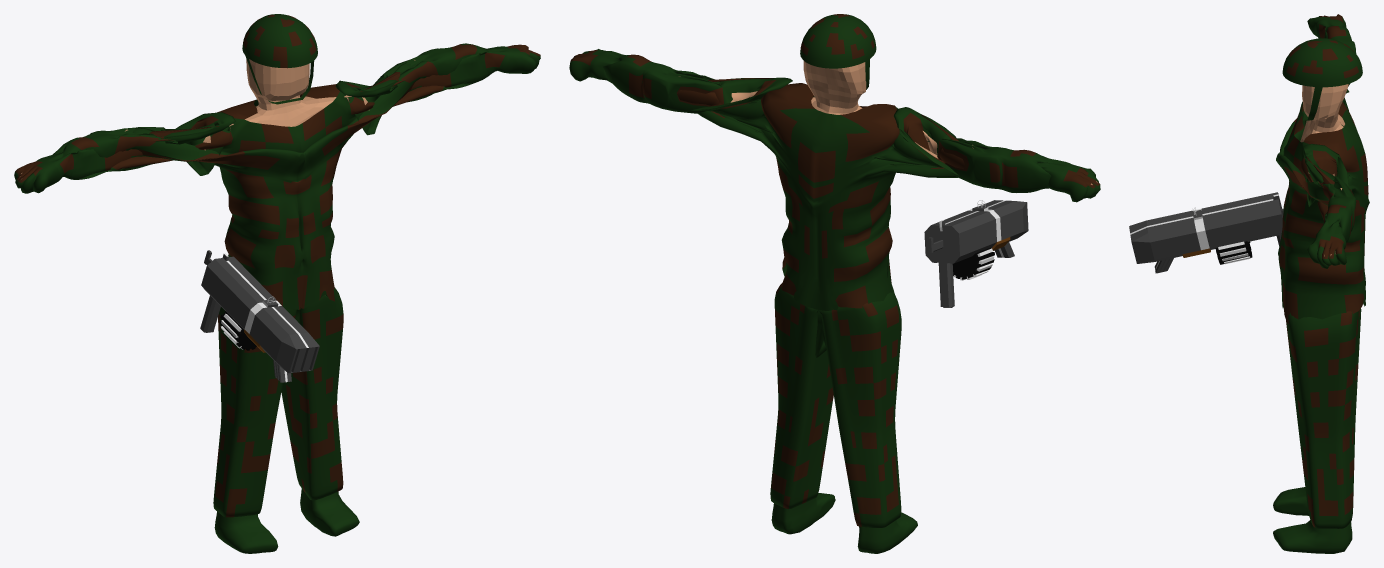
Rendered from tower2_budoucnost.fbx.
3 renders of one model, left to right at view 1: azimuth 30°, elevation 25°; view 2: azimuth 150°, elevation 25°; view 3: azimuth 270°, elevation 25°, orthographic. The views are drawn at different scales.
Visible parts, largest first — view 1: kabat, kalhoty, Cylinder, telo, boty, Sphere.001; view 2: kabat, kalhoty, Cylinder, Sphere.001, boty, telo; view 3: kabat, kalhoty, Cylinder, Sphere.001, boty, telo.
Part boxes in pixels (bbox=[...]): kabat: bbox=[14, 43, 540, 309]; kalhoty: bbox=[213, 287, 343, 517]; Cylinder: bbox=[200, 250, 319, 382]; telo: bbox=[229, 59, 351, 128]; boty: bbox=[214, 488, 359, 553]; Sphere.001: bbox=[242, 14, 317, 104]; kabat: bbox=[569, 49, 1100, 310]; kalhoty: bbox=[770, 283, 901, 527]; Cylinder: bbox=[924, 200, 1028, 307]; Sphere.001: bbox=[800, 14, 876, 89]; boty: bbox=[771, 493, 917, 553]; telo: bbox=[803, 61, 866, 114]; kabat: bbox=[1276, 14, 1369, 324]; kalhoty: bbox=[1286, 308, 1361, 528]; Cylinder: bbox=[1129, 192, 1283, 273]; Sphere.001: bbox=[1282, 38, 1362, 120]; boty: bbox=[1273, 487, 1352, 553]; telo: bbox=[1300, 84, 1348, 142].
Bounding box in the file's own units: 371 × 348 × 155.
